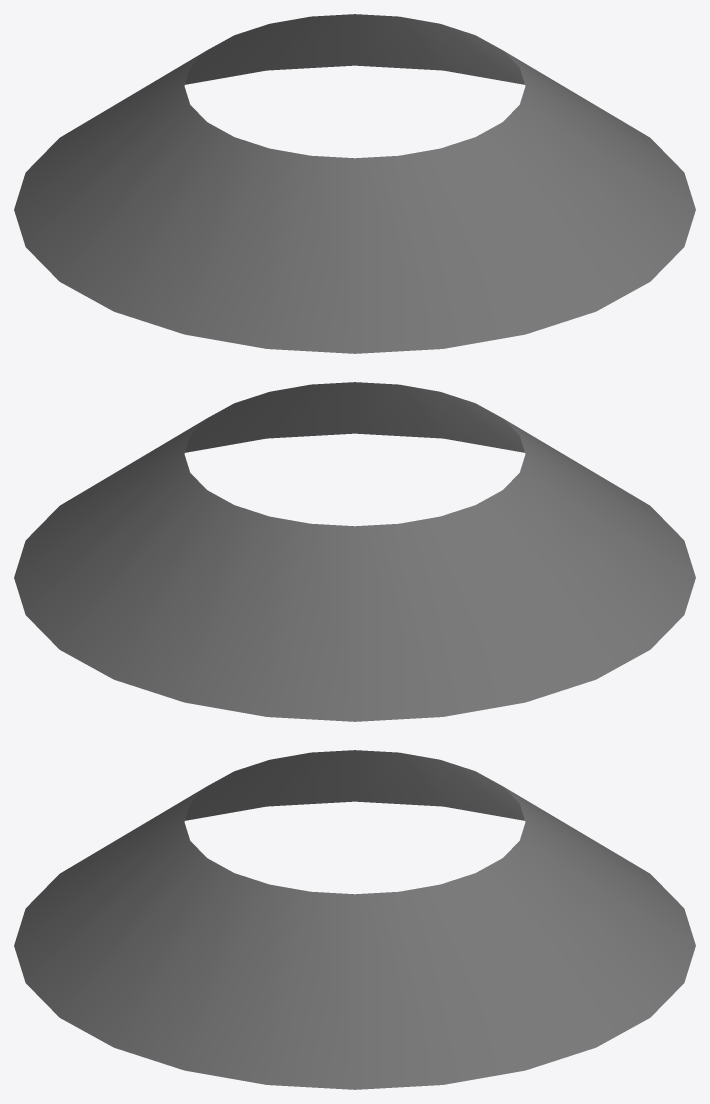
File: vega_adapter_s1_s0_1.obj
3 renders of one model, top to bottom at view 1: azimuth 30°, elevation 25°; view 2: azimuth 150°, elevation 25°; view 3: azimuth 270°, elevation 25°, orthographic.
Visible parts, largest first — view 1: mesh1; view 2: mesh1; view 3: mesh1.
Part boxes in pixels (bbox=[...]): mesh1: bbox=[14, 14, 695, 353]; mesh1: bbox=[14, 382, 695, 721]; mesh1: bbox=[14, 750, 695, 1089].
Bounding box in the file's own units: 1.25 × 0.25 × 1.25.
